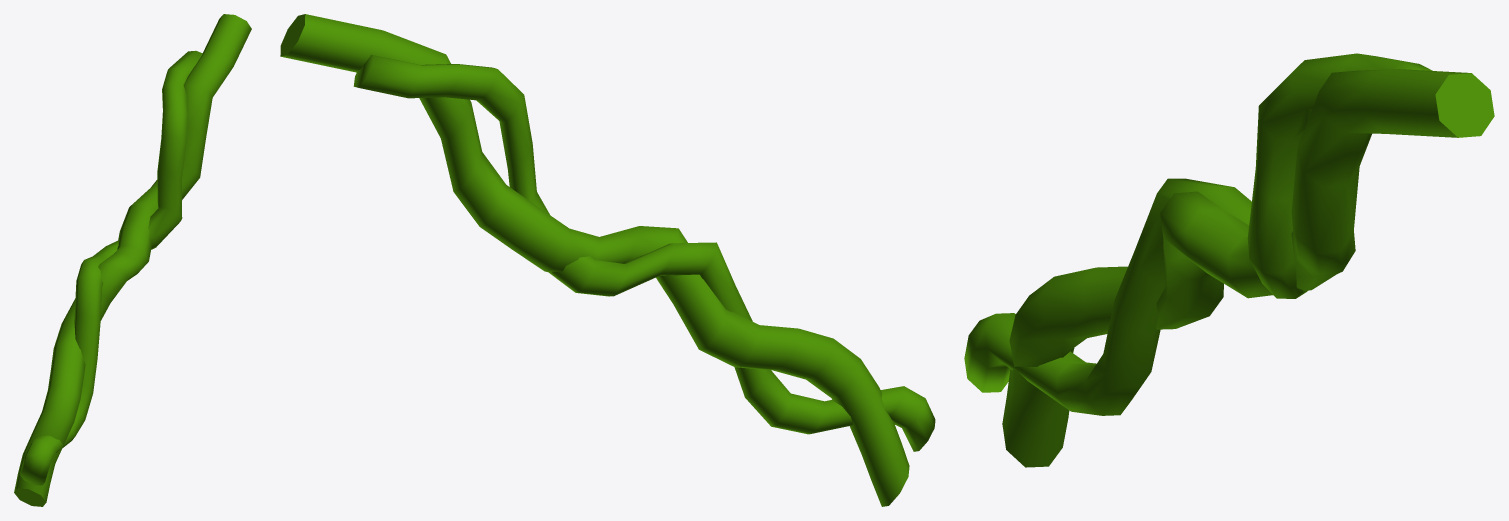
The model's file is Ranken_9.fbx.
3 renders of one model, left to right at view 1: azimuth 30°, elevation 25°; view 2: azimuth 150°, elevation 25°; view 3: azimuth 270°, elevation 25°, orthographic. The views are drawn at different scales.
Parts seen in each view (by area): view 1: Ranken_9; view 2: Ranken_9; view 3: Ranken_9.
Boxes of the visible parts, x1=… form: Ranken_9: x1=14, y1=14, x2=251, y2=506; Ranken_9: x1=280, y1=14, x2=935, y2=506; Ranken_9: x1=964, y1=53, x2=1494, y2=467.
Size of the model in its own units: 1047 by 1008 by 705.
